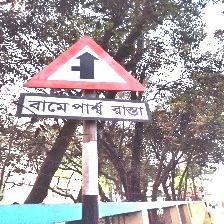Side-road-left: (19, 34, 150, 127)
